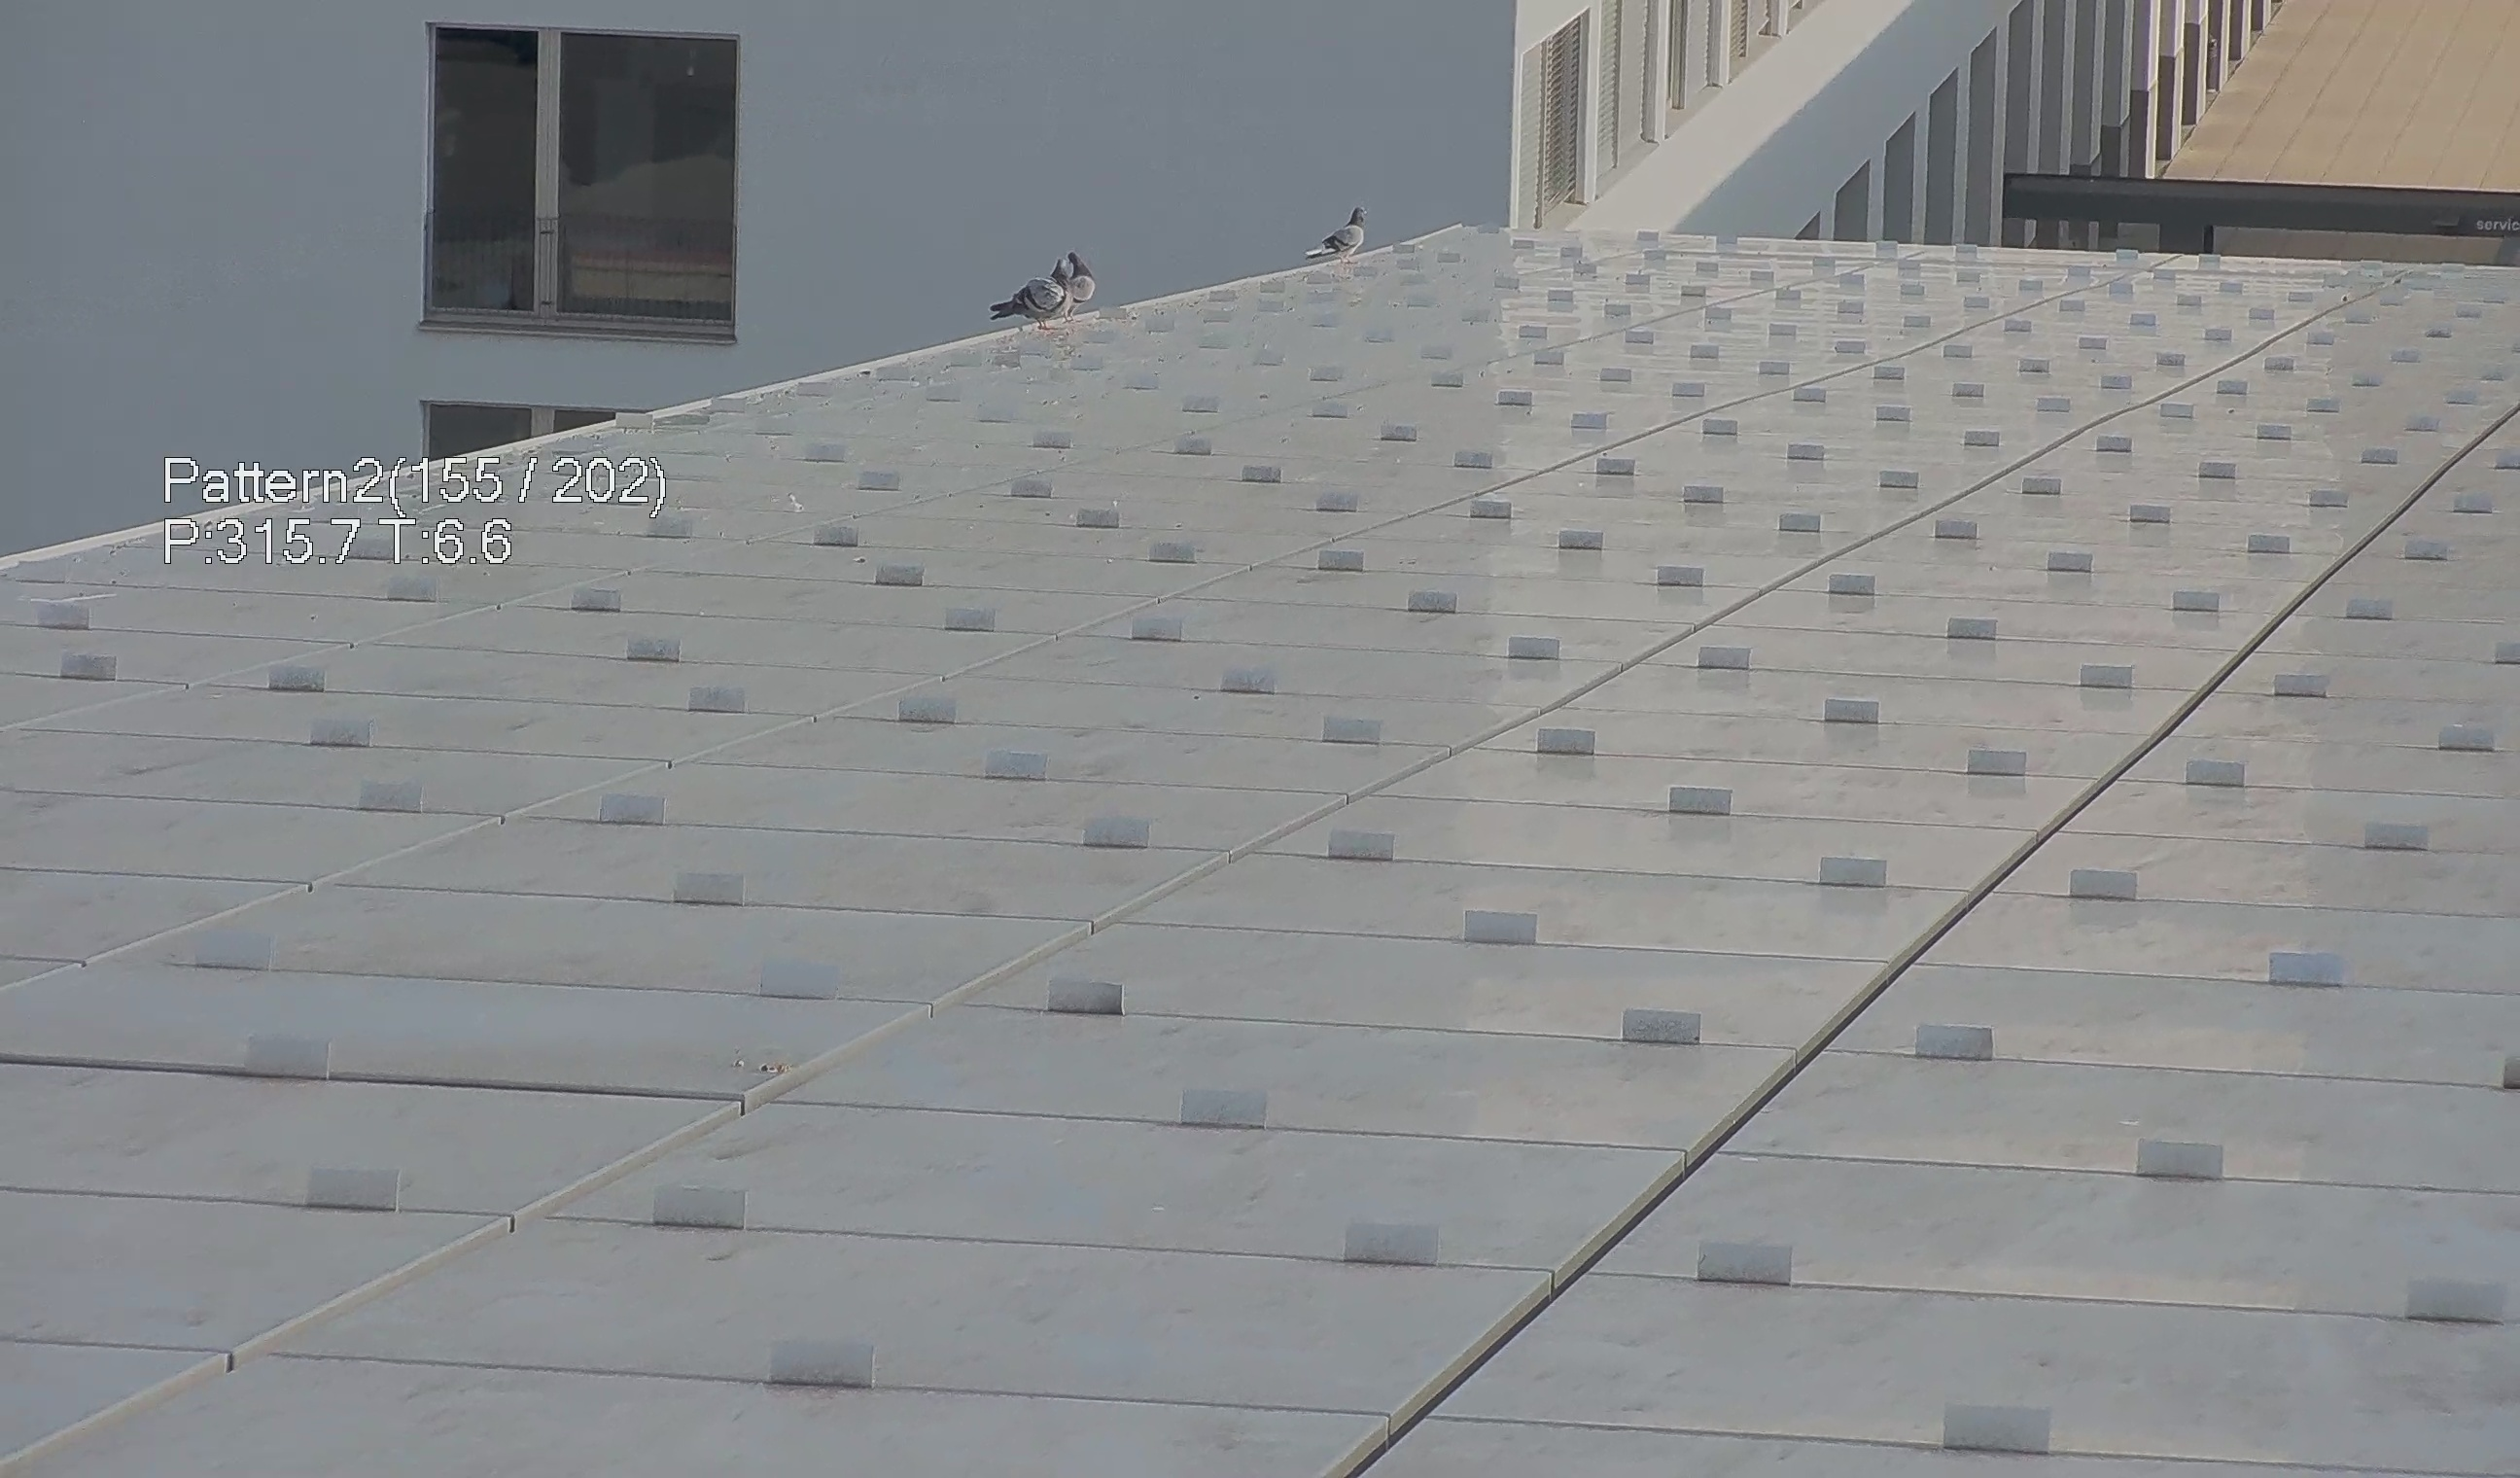Pigeon: (974, 236, 1097, 336), (1294, 197, 1393, 283), (1062, 250, 1120, 317)
